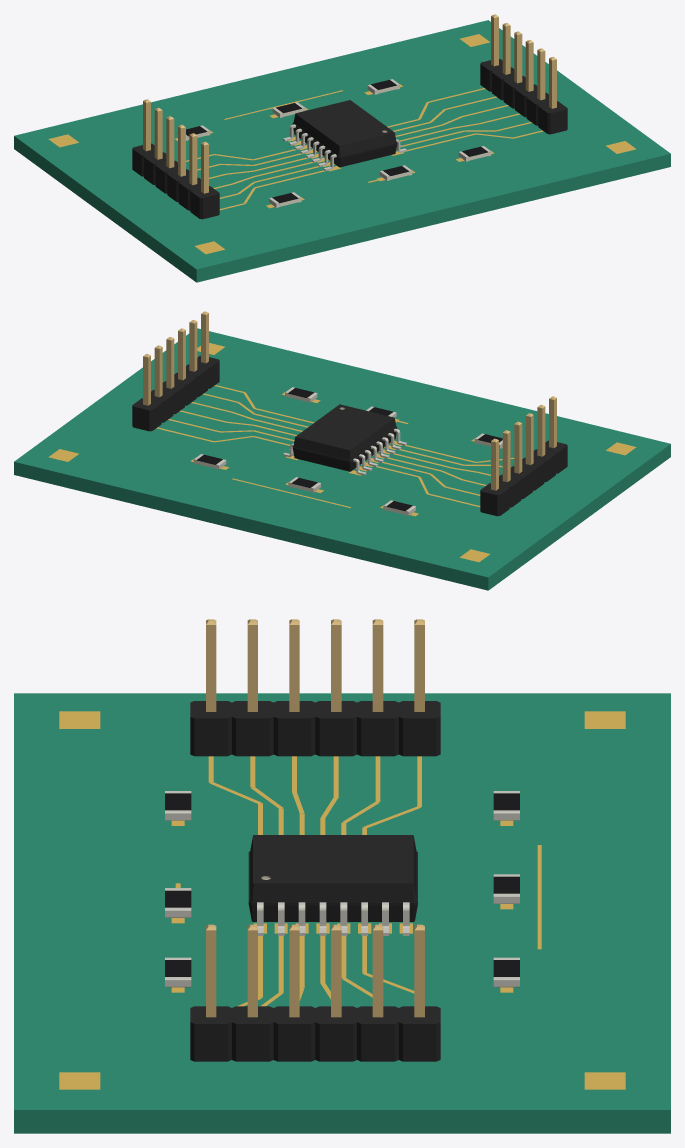
The model's file is bf9e5ac3-dfc6-4d67-9d18-bc37aadd02d8.glb.
The picture shows the model from 3 angles, top to bottom: view 1: azimuth 30°, elevation 25°; view 2: azimuth 150°, elevation 25°; view 3: azimuth 270°, elevation 25°; orthographic projection. The views are drawn at different scales.
Visible parts, largest first — view 1: mesh_0, J2, J1, U1, mesh_0_1; view 2: mesh_0, J1, J2, U1, mesh_0_1; view 3: mesh_0, J1, J2, U1, mesh_0_1, R3, R6, R1, R2, R4, R5.
Part boxes in pixels (x1=…): mesh_0: x1=14, y1=20, x2=670, y2=282; J2: x1=480, y1=14, x2=567, y2=134; J1: x1=132, y1=99, x2=219, y2=219; U1: x1=283, y1=100, x2=406, y2=171; mesh_0_1: x1=48, y1=34, x2=636, y2=254; mesh_0: x1=14, y1=328, x2=670, y2=590; J1: x1=480, y1=396, x2=567, y2=516; J2: x1=132, y1=311, x2=219, y2=431; U1: x1=283, y1=404, x2=406, y2=475; mesh_0_1: x1=48, y1=343, x2=636, y2=562; mesh_0: x1=14, y1=693, x2=670, y2=1133; J1: x1=190, y1=619, x2=440, y2=756; J2: x1=190, y1=924, x2=440, y2=1061; U1: x1=248, y1=835, x2=417, y2=935; mesh_0_1: x1=59, y1=711, x2=625, y2=1089; R3: x1=165, y1=957, x2=191, y2=987; R6: x1=493, y1=957, x2=519, y2=987; R1: x1=165, y1=791, x2=191, y2=820; R2: x1=165, y1=888, x2=191, y2=917; R4: x1=493, y1=791, x2=519, y2=820; R5: x1=493, y1=874, x2=519, y2=903.
Size of the model in its own units: 60 by 11.54 by 40.
